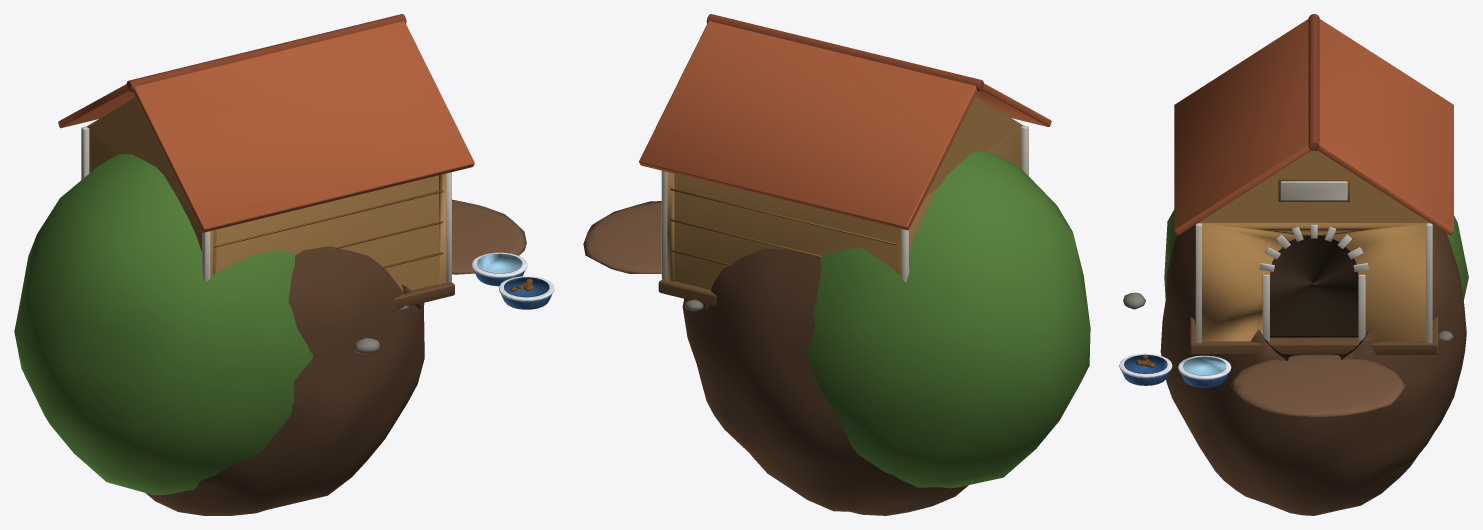
Rendered from fauna.glb.
The picture shows the model from 3 angles, left to right: view 1: azimuth 30°, elevation 25°; view 2: azimuth 150°, elevation 25°; view 3: azimuth 270°, elevation 25°; orthographic projection. The views are drawn at different scales.
Parts seen in each view (by area): view 1: den, kennel; view 2: den, kennel; view 3: kennel, den.
Part boxes in pixels (<box>): den: <box>14,153,526,515</box>; kennel: <box>58,14,554,309</box>; den: <box>583,151,1090,515</box>; kennel: <box>639,14,1051,306</box>; kennel: <box>1119,14,1453,387</box>; den: <box>1123,209,1468,515</box>.
Size of the model in its own units: 2.51 by 2.27 by 1.66.
